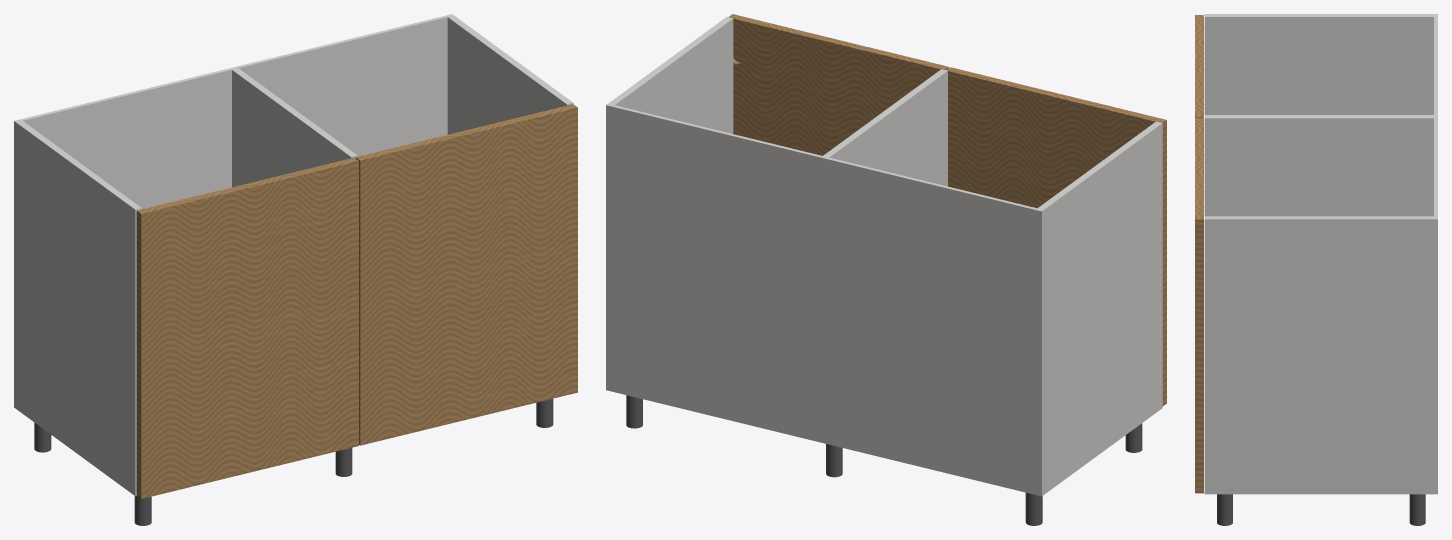
Rendered from w1200_none_default_closed.glb.
The picture shows the model from 3 angles, left to right: view 1: azimuth 30°, elevation 25°; view 2: azimuth 150°, elevation 25°; view 3: azimuth 270°, elevation 25°; orthographic projection. The views are drawn at different scales.
Visible parts, largest first — view 1: oak, white, leg; view 2: white, oak, leg; view 3: white, oak, leg.
Boxes of the visible parts, box(x1,y1,x2,y2) form: oak: box(136, 104, 577, 498); white: box(14, 14, 573, 496); leg: box(34, 398, 553, 525); white: box(606, 17, 1162, 496); oak: box(729, 14, 1166, 406); leg: box(626, 395, 1142, 525); white: box(1204, 14, 1437, 494); oak: box(1195, 15, 1203, 493); leg: box(1217, 494, 1425, 525).
Bounding box in the file's own units: 1.2 × 0.85 × 0.6.
3 materials, 1 textured.
